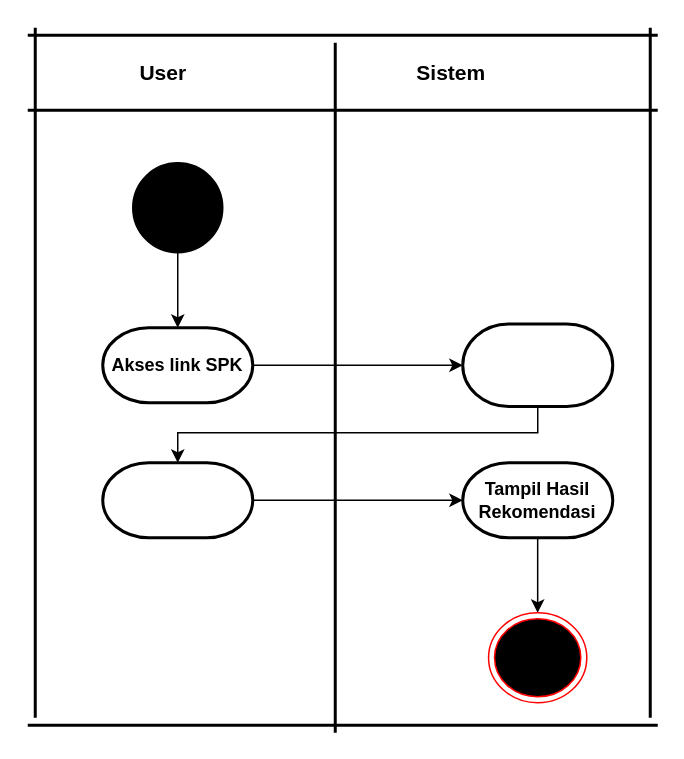
The diagram is 684 pixels wide and 759 high, and some of its shapes have lost their labels. The centre of each missing label's shape, as x and y in pixels:
"Memasukan Bobot" belongs at point 177,499.
"Tampil Form bobot" belongs at point 537,364.
